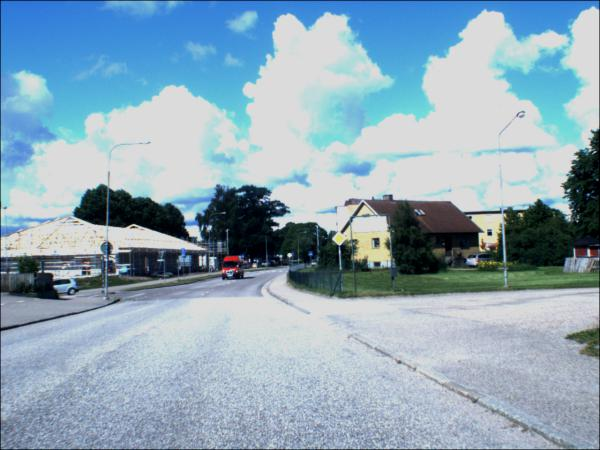PEDESTRIAN_CROSSING: (242, 255, 247, 261), (310, 253, 315, 258)
PRIORITY_ROAD: (333, 233, 349, 247), (288, 255, 294, 261)
